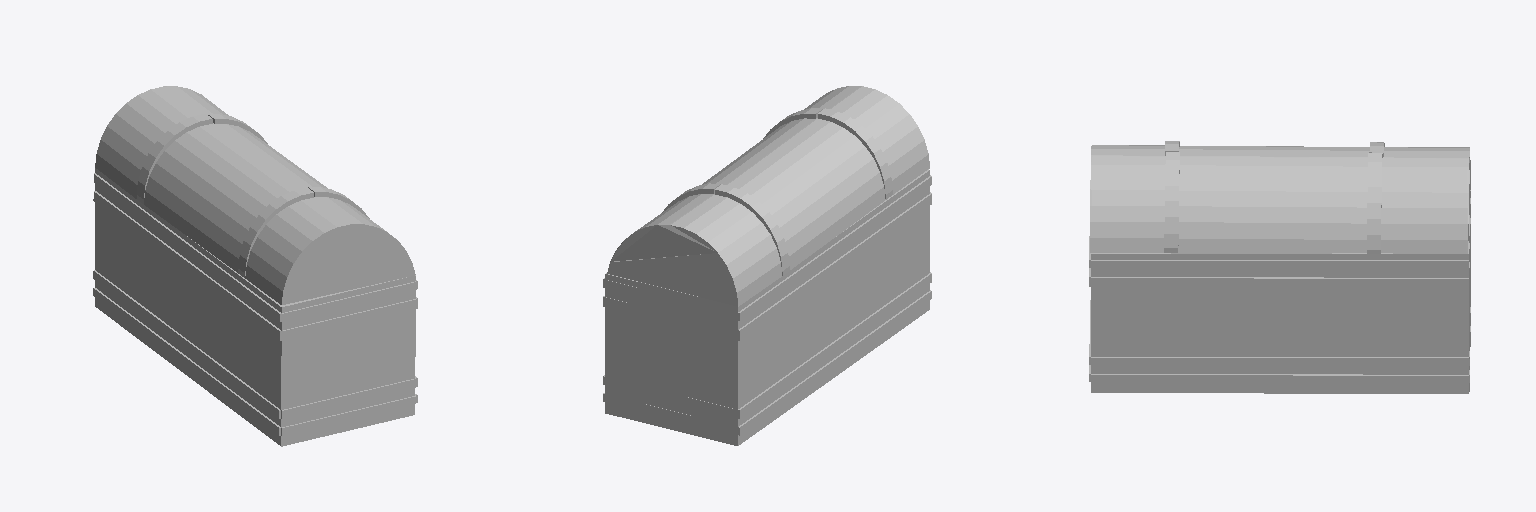
The model's file is Trunk.obj.
3 views of the same model, side by side, from view 1: azimuth 30°, elevation 25°; view 2: azimuth 150°, elevation 25°; view 3: azimuth 270°, elevation 25° (orthographic).
Parts seen in each view (by area): view 1: lid_Cylinder.001_lid_Cylinder.001; view 2: lid_Cylinder.001_lid_Cylinder.001; view 3: lid_Cylinder.001_lid_Cylinder.001.
Part boxes in pixels (left/top/right/bottom): lid_Cylinder.001_lid_Cylinder.001: left=93, top=86, right=417, bottom=446; lid_Cylinder.001_lid_Cylinder.001: left=603, top=86, right=931, bottom=445; lid_Cylinder.001_lid_Cylinder.001: left=1089, top=141, right=1470, bottom=393.
Size of the model in its own units: 2.11 by 3.03 by 4.96.